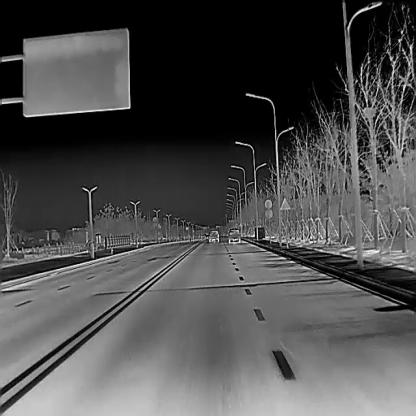car: (227, 227, 240, 243), (207, 229, 218, 242)
